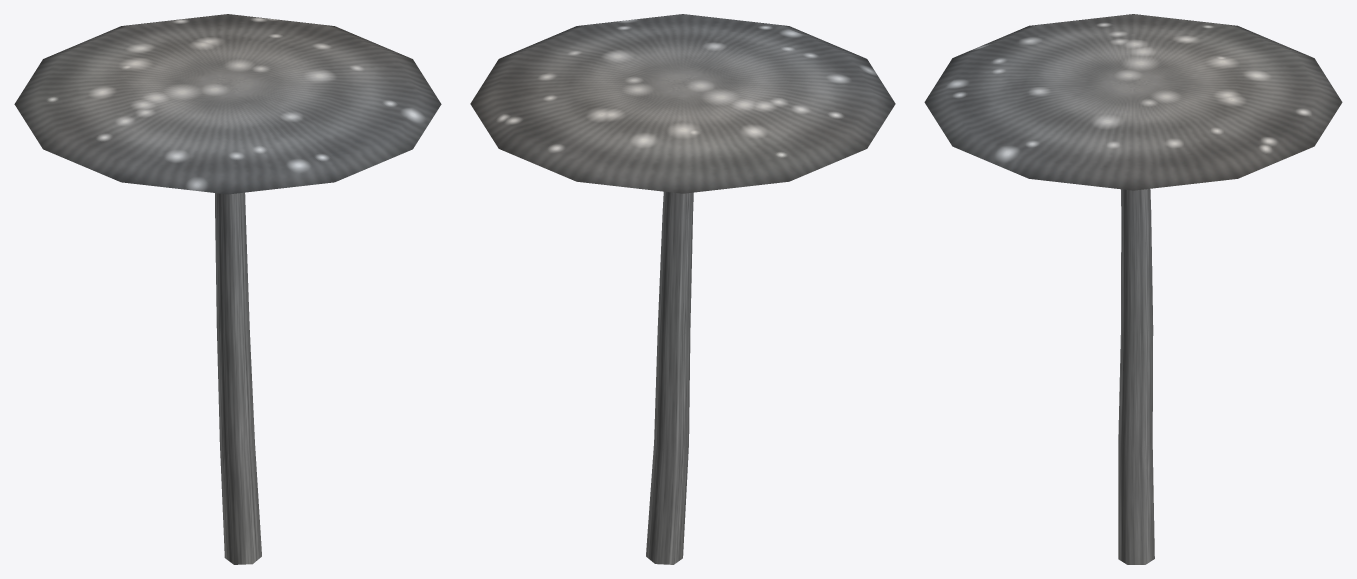
The model's file is parasol_l0.gltf.
3 views of the same model, side by side, from view 1: azimuth 30°, elevation 25°; view 2: azimuth 150°, elevation 25°; view 3: azimuth 270°, elevation 25° (orthographic). The views are drawn at different scales.
Visible parts, largest first — view 1: parasol_l0; view 2: parasol_l0; view 3: parasol_l0.
Part boxes in pixels (<box>): parasol_l0: <box>14,14,441,564</box>; parasol_l0: <box>470,14,895,564</box>; parasol_l0: <box>924,14,1342,564</box>.
Size of the model in its own units: 2 by 2.48 by 2.
2 materials, 2 textured.
